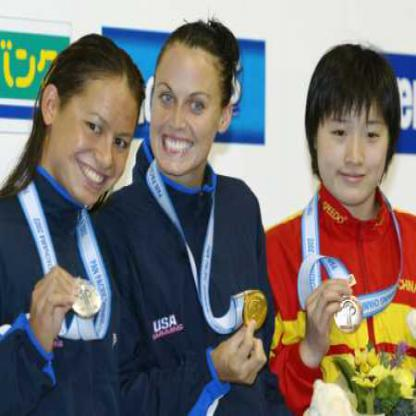face: (55, 52, 143, 209), (316, 55, 394, 206), (151, 26, 226, 179)
